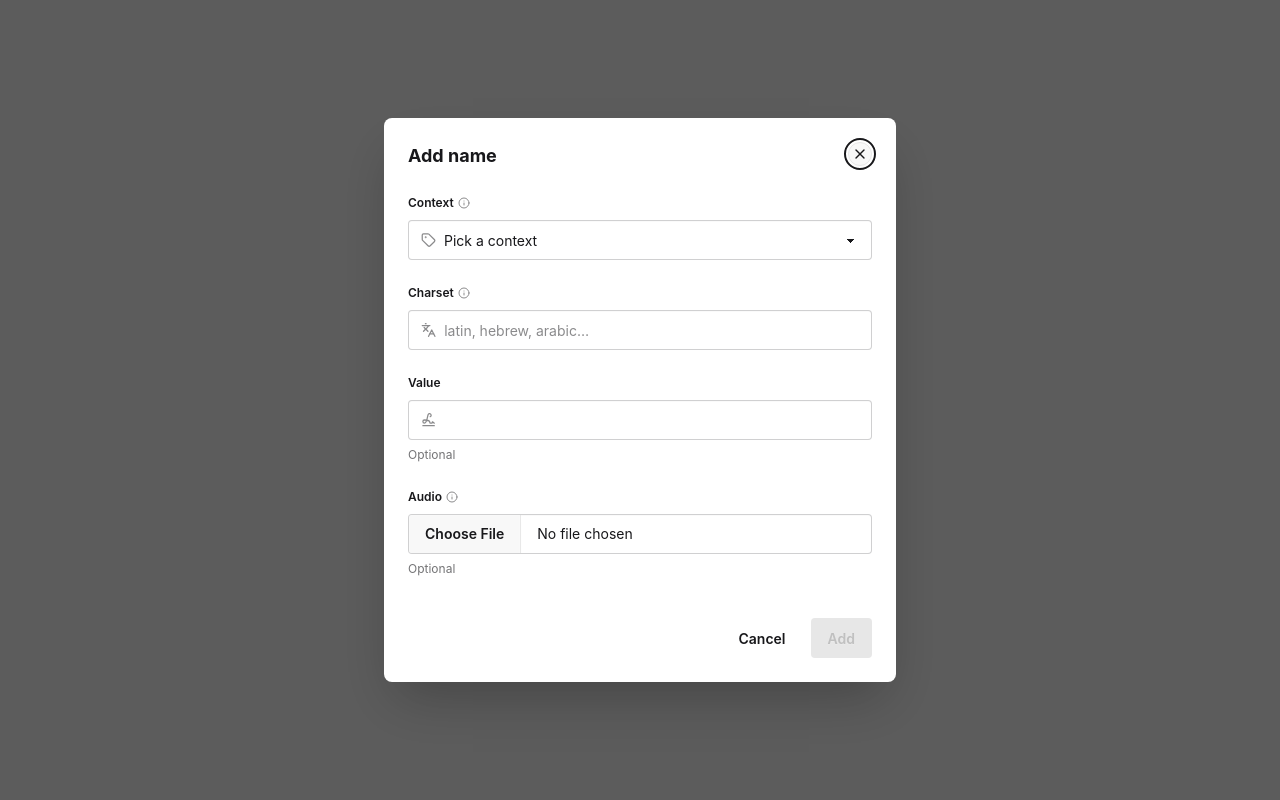
Test: NameFormModal › shows an error when submit fails
The image size is (1280, 800).
Select "legal" in the dropdown: (652, 240) [432,222,871,258]
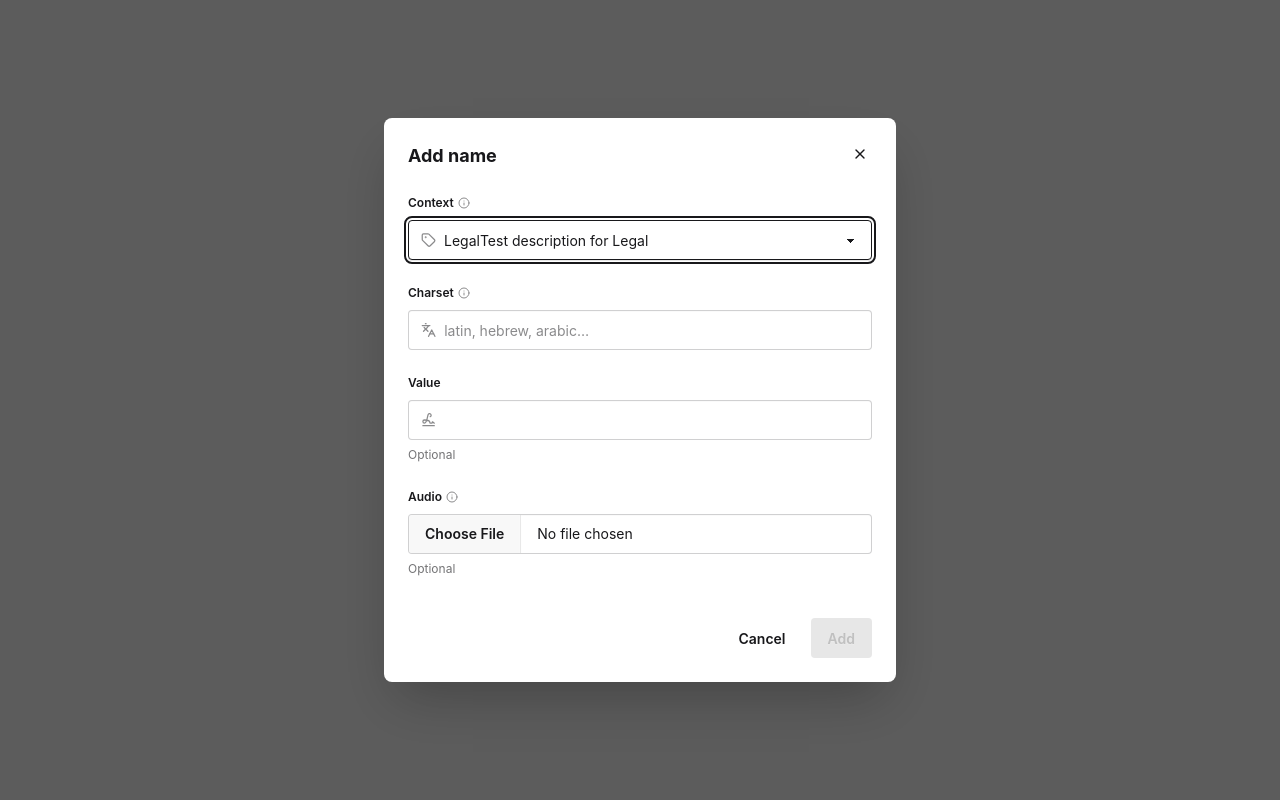
In the field with placeholder "latin, hebrew, arabic…": (652, 330) [444,311,859,349], type "latin"
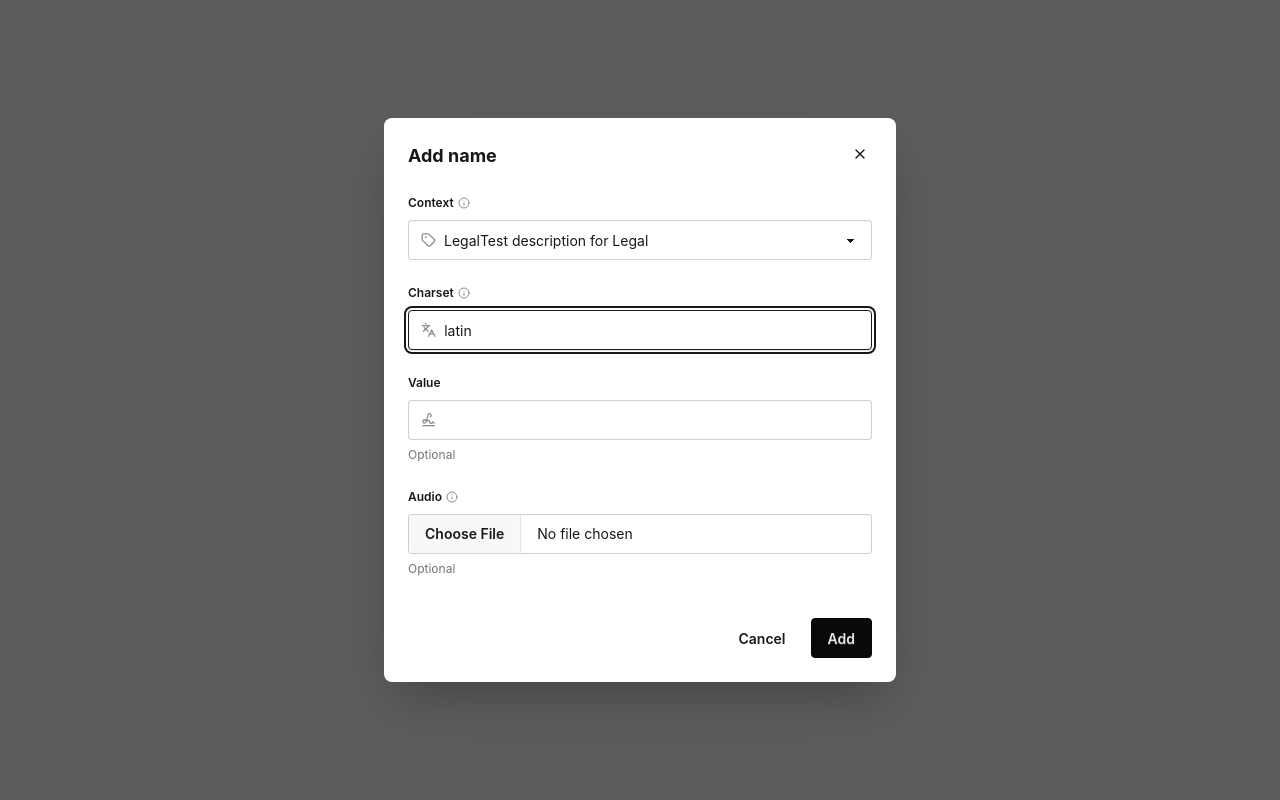
Click the button "Add": (841, 638) [810,618,872,658]
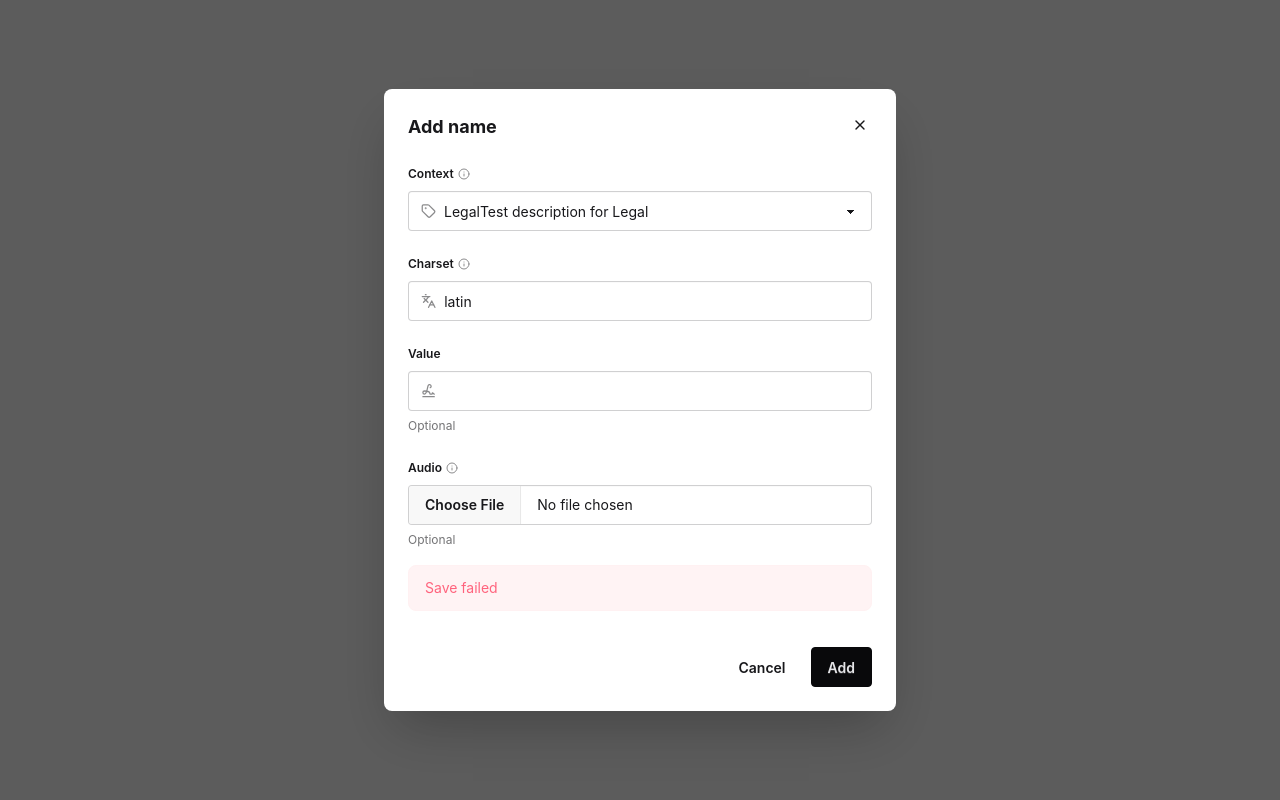
Expected: the message reads "Save failed", [425,579,498,596]
